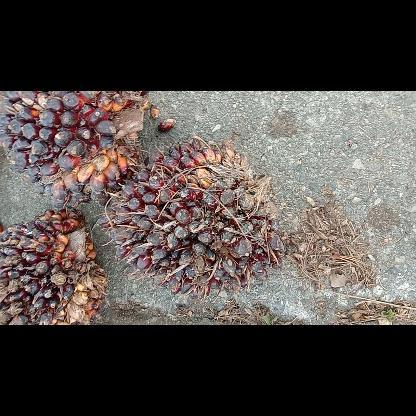TBS mentah: (98, 136, 286, 294), (1, 92, 149, 209), (0, 210, 106, 324)
